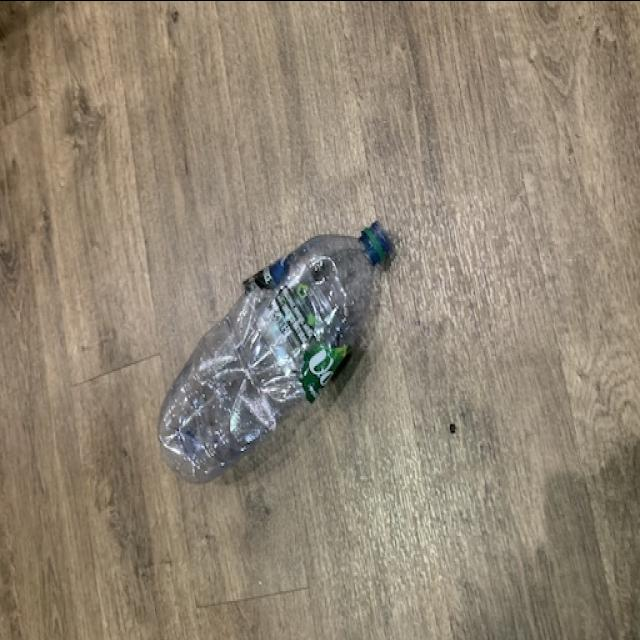PET: (152, 215, 410, 485)
